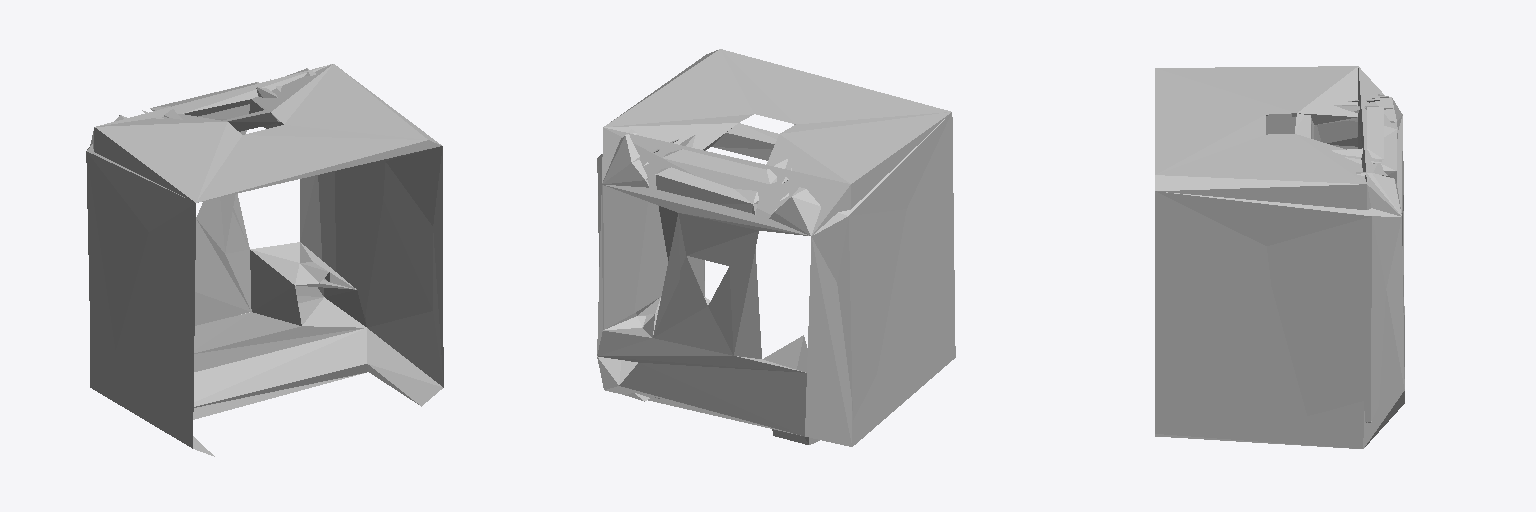
Rendered from part_4_simplified.obj.
3 renders of one model, left to right at view 1: azimuth 30°, elevation 25°; view 2: azimuth 150°, elevation 25°; view 3: azimuth 270°, elevation 25°, orthographic.
Parts seen in each view (by area): view 1: part_4_simplified; view 2: part_4_simplified; view 3: part_4_simplified.
Boxes of the visible parts, x1,y1,x2,y2 form: part_4_simplified: [86, 64, 443, 456]; part_4_simplified: [597, 49, 955, 446]; part_4_simplified: [1155, 66, 1404, 448].
Bounding box in the file's own units: 0.1252 × 0.1285 × 0.1078.